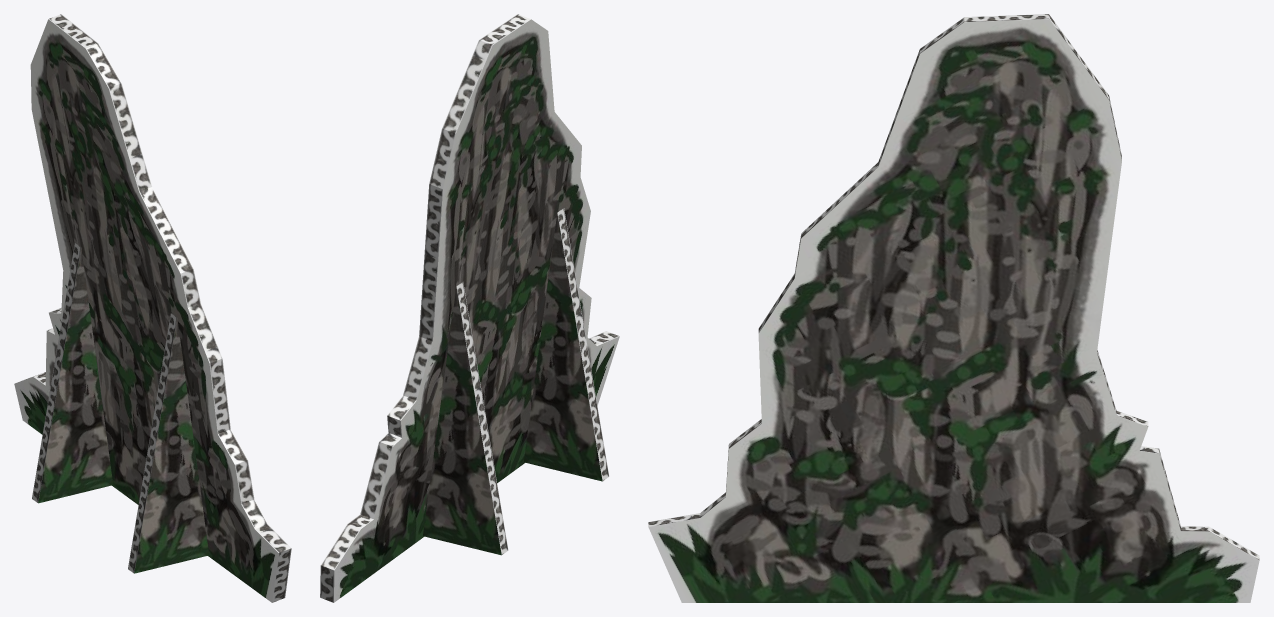
Rendered from boulder1.glb.
3 renders of one model, left to right at view 1: azimuth 30°, elevation 25°; view 2: azimuth 150°, elevation 25°; view 3: azimuth 270°, elevation 25°, orthographic. The views are drawn at different scales.
Visible parts, largest first — view 1: Boulder1; view 2: Boulder1; view 3: Boulder1.
Boxes of the visible parts, x1,y1,x2,y2 form: Boulder1: (14, 14, 291, 602); Boulder1: (320, 14, 619, 602); Boulder1: (648, 14, 1259, 602).
Size of the model in its own units: 0.4548 by 2.37 by 2.39.
1 material, 1 textured.
